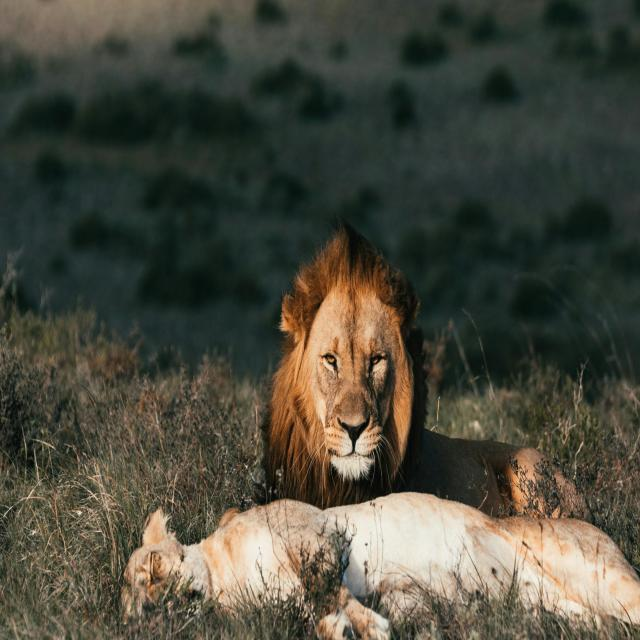Lion: (262, 216, 600, 555)
